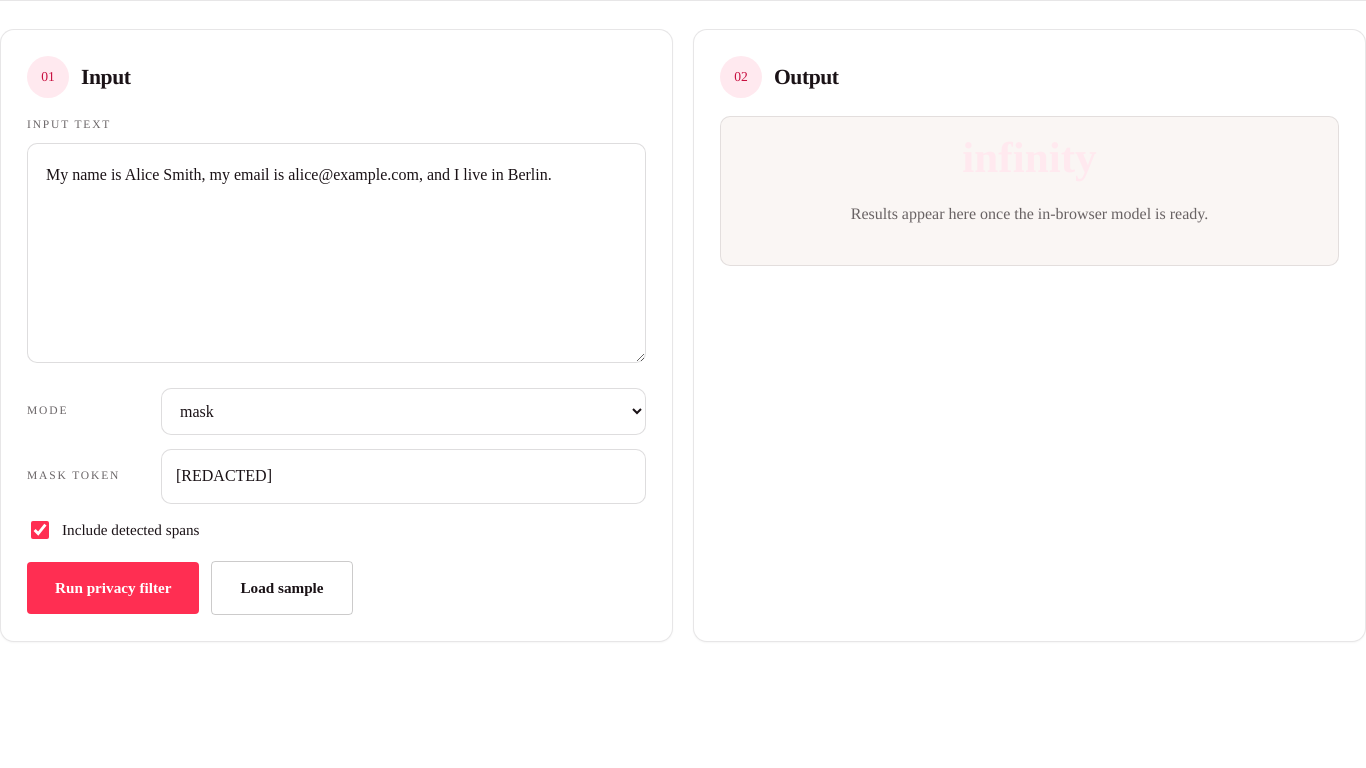
Test: consent gate: no download without agreement › attempts to load the model only after accepting
Step 1. Click the button "Run privacy filter" → coordinates (113, 588), box [27, 562, 199, 614]
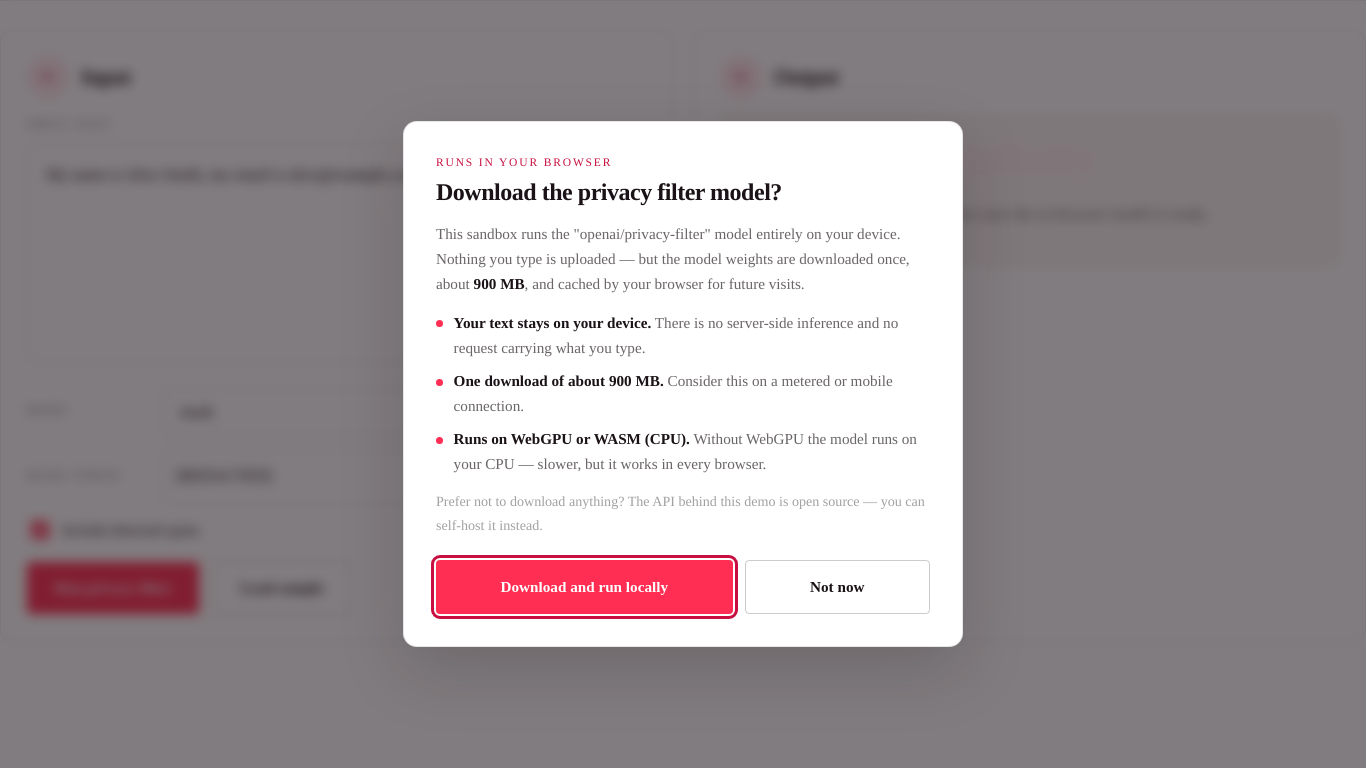
Step 2. Click the button "Download and run locally" → coordinates (584, 587), box [436, 560, 732, 614]
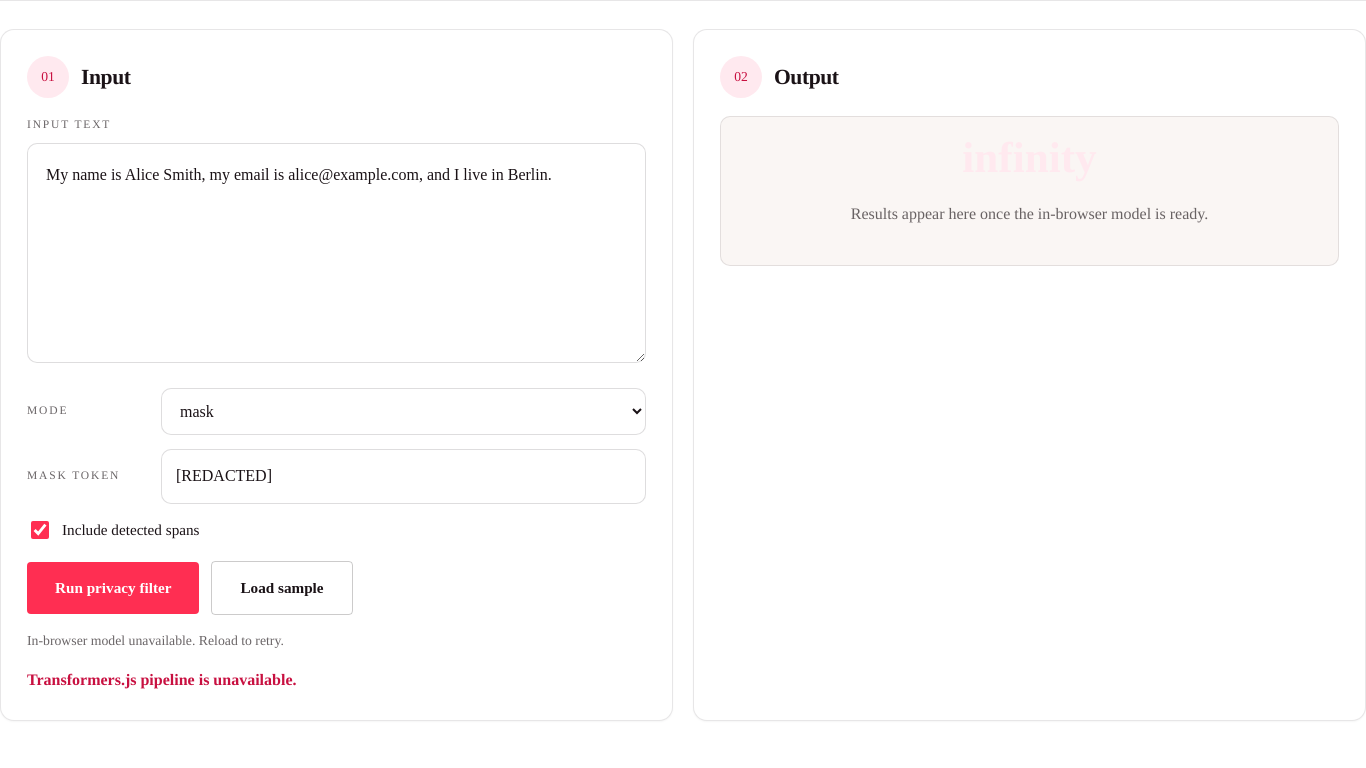
Expected: the button "Run privacy filter" is enabled, [27, 562, 199, 614]
Expected: the message shows "In-browser model", [27, 633, 284, 648]
